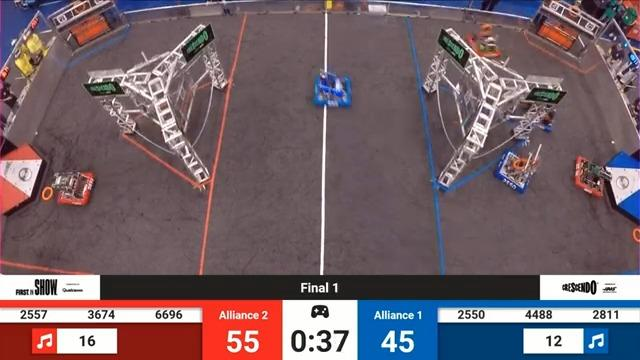robot: (304, 62, 364, 118), (494, 139, 542, 198), (572, 146, 614, 203), (52, 167, 99, 212), (462, 21, 509, 62), (524, 90, 560, 131)
